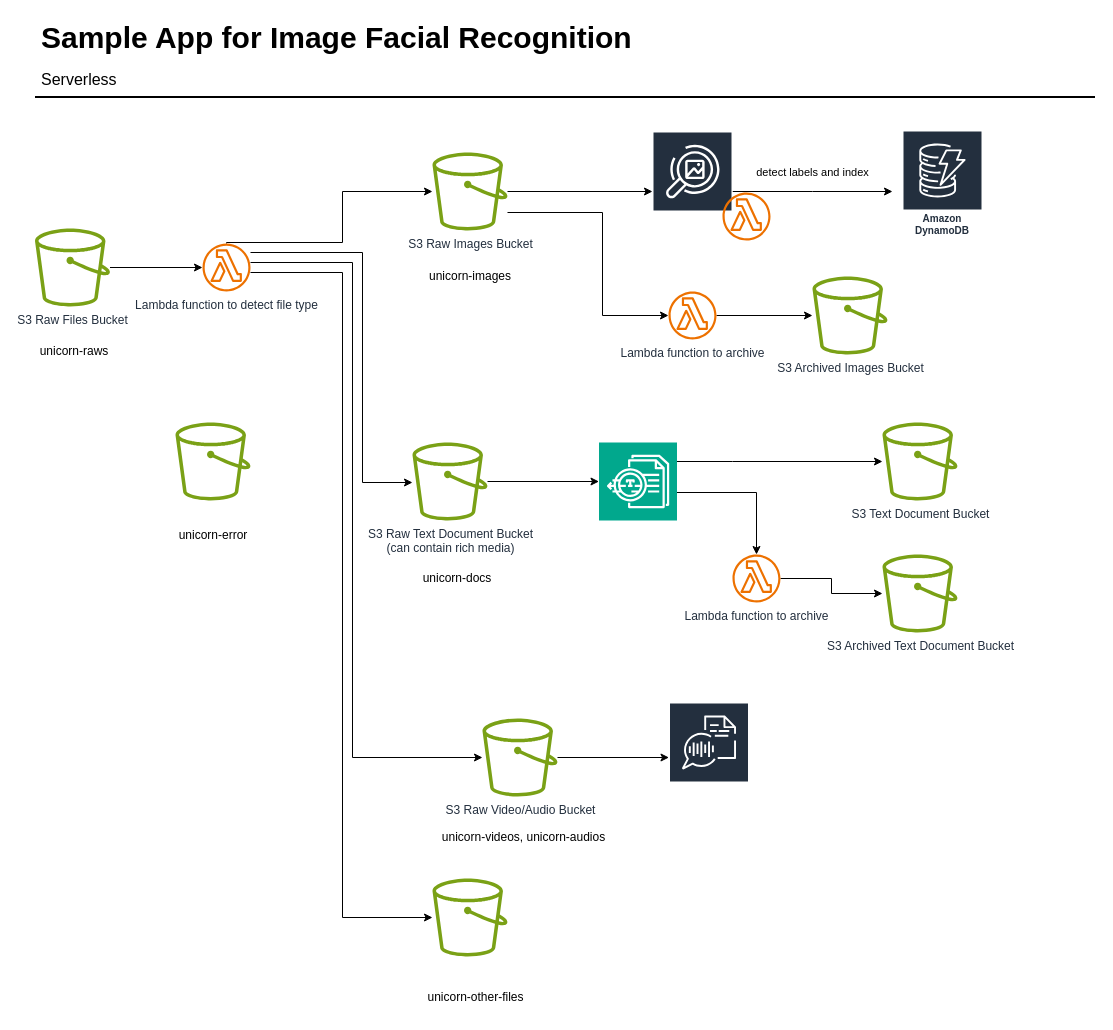
Some shapes in this 1113 by 1030 pixel diagram are drawn without their labels. Here are the shapes that lost their labels. From the top down, the centre of each, then its label:
(692,191): Amazon Rekognition Image
(212,461): S3 Error Bucket
(637,481): AWS Textract
(708,757): Amazon Transcribe
(469,917): S3 Other Raw Files Bucket
